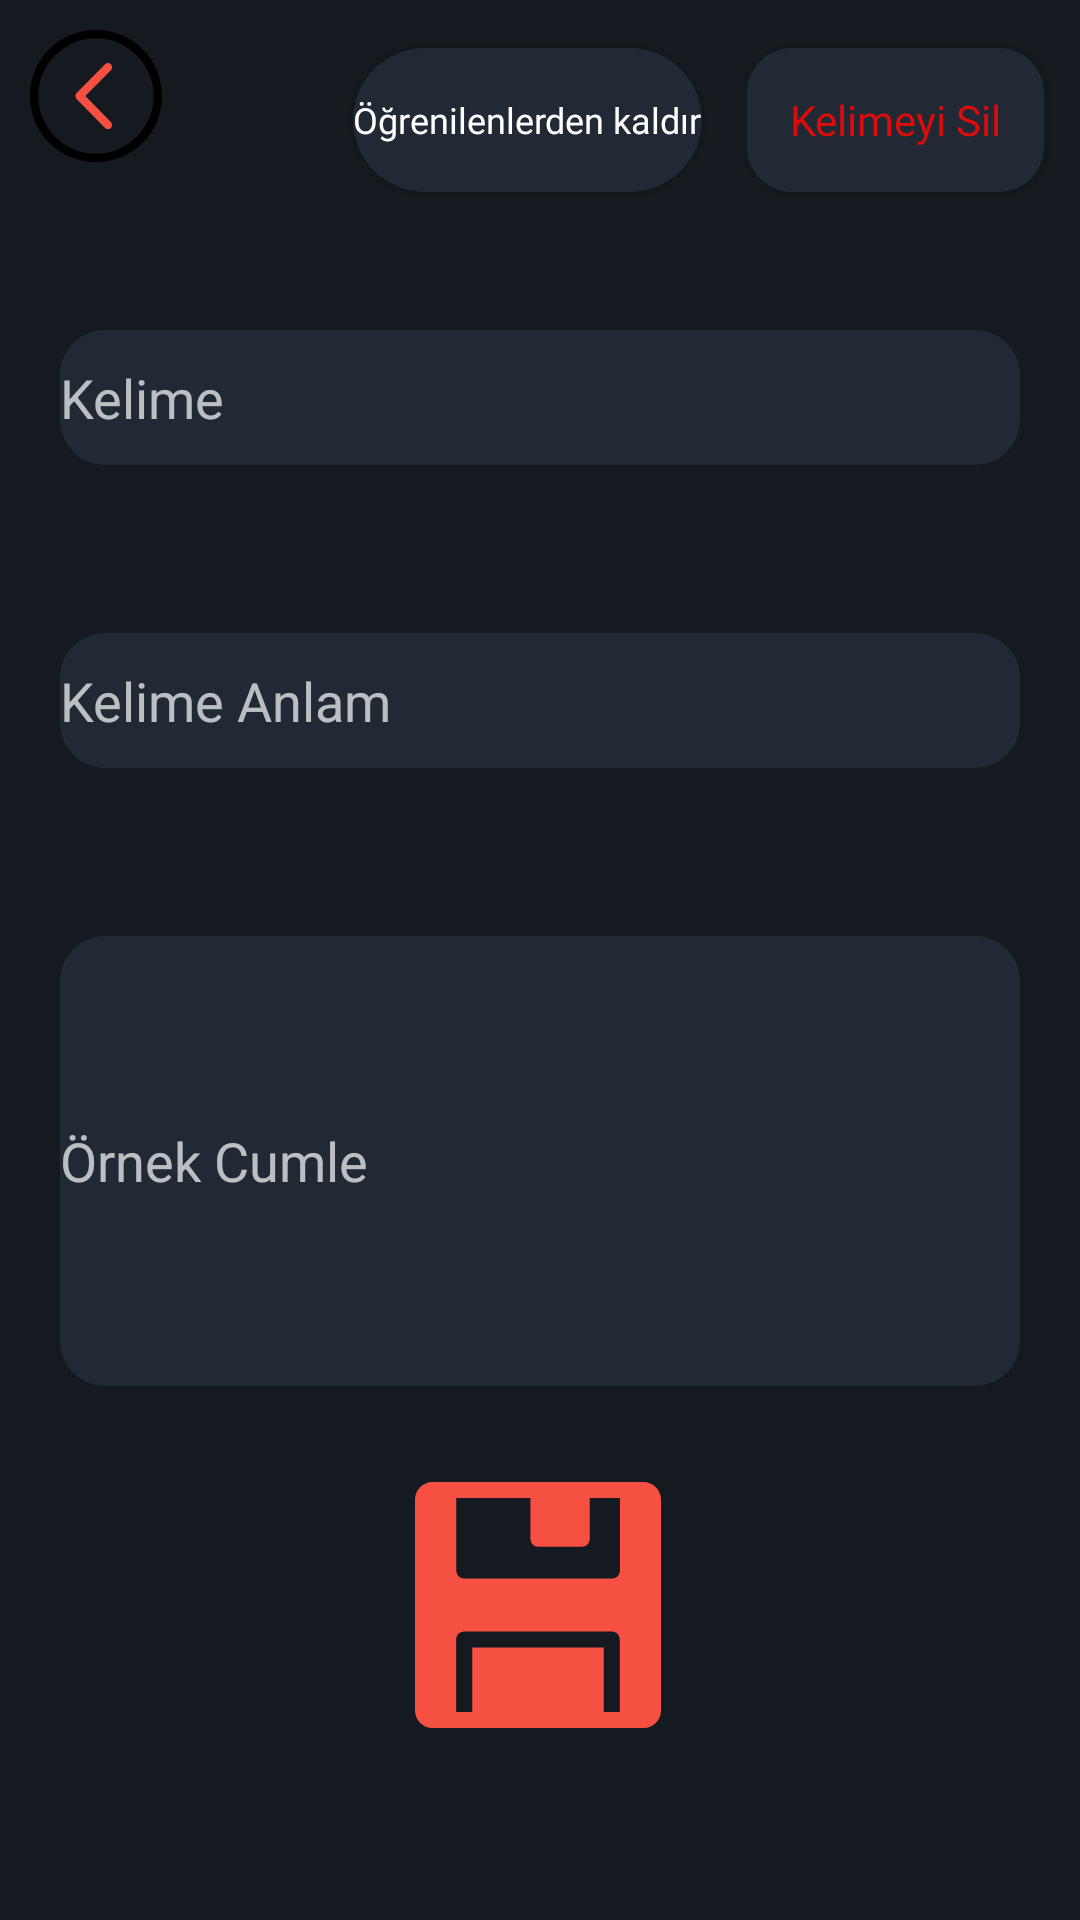

Icon click points for this 1080px×1920px phone screenshot, format point (x, y):
back: point (96, 96)
save: point (538, 1605)
